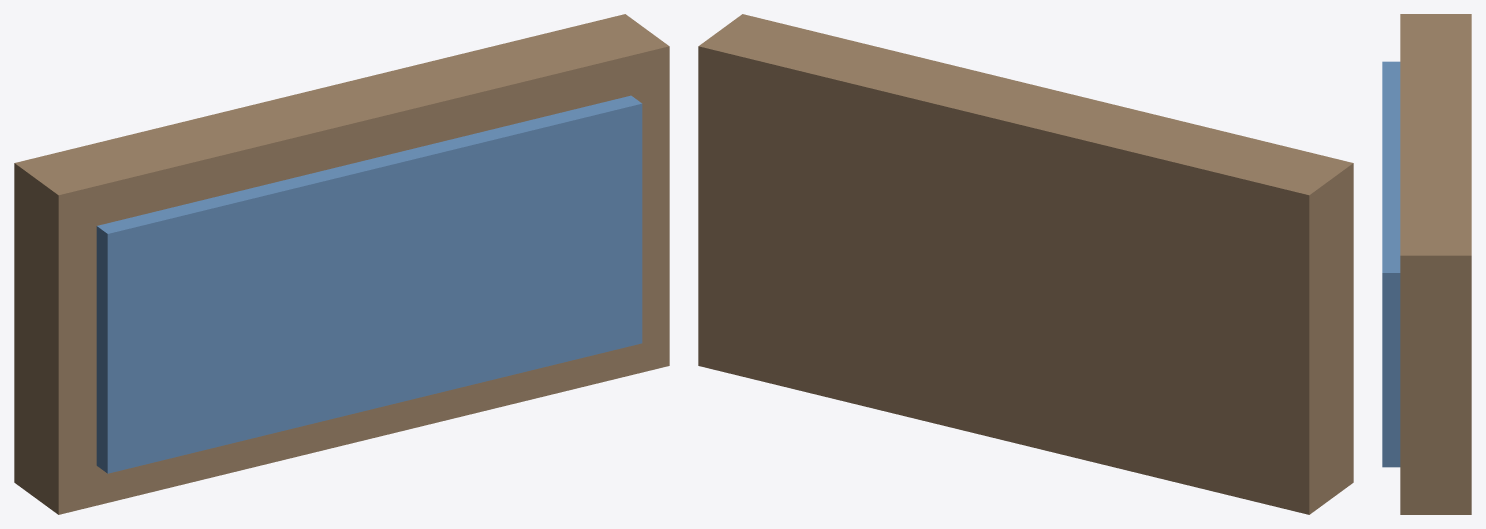
File: kit_shop_sign.glb
3 views of the same model, side by side, from view 1: azimuth 30°, elevation 25°; view 2: azimuth 150°, elevation 25°; view 3: azimuth 270°, elevation 25° (orthographic). The views are drawn at different scales.
Parts seen in each view (by area): view 1: kit_shop_sign-col; view 2: kit_shop_sign-col; view 3: kit_shop_sign-col.
Boxes of the visible parts, x1=… form: kit_shop_sign-col: x1=14, y1=14, x2=669, y2=514; kit_shop_sign-col: x1=698, y1=14, x2=1353, y2=514; kit_shop_sign-col: x1=1382, y1=14, x2=1471, y2=514.
Bounding box in the file's own units: 2 × 1 × 0.3125.
